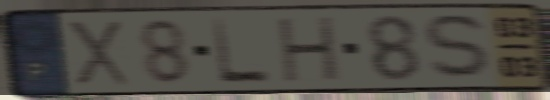8: (363, 13, 424, 84), (135, 16, 193, 87)
H: (276, 13, 343, 86)
L: (208, 16, 275, 87)
S: (419, 11, 500, 84)
X: (63, 18, 134, 88)
